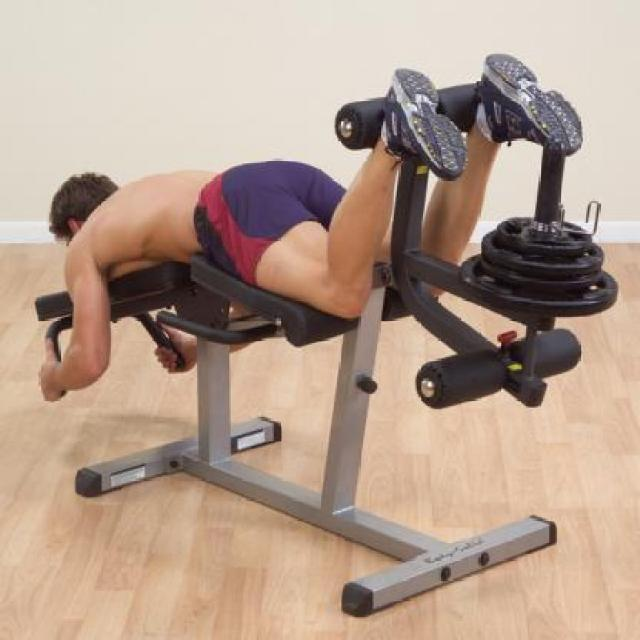reg curl machine: (19, 48, 622, 623)
